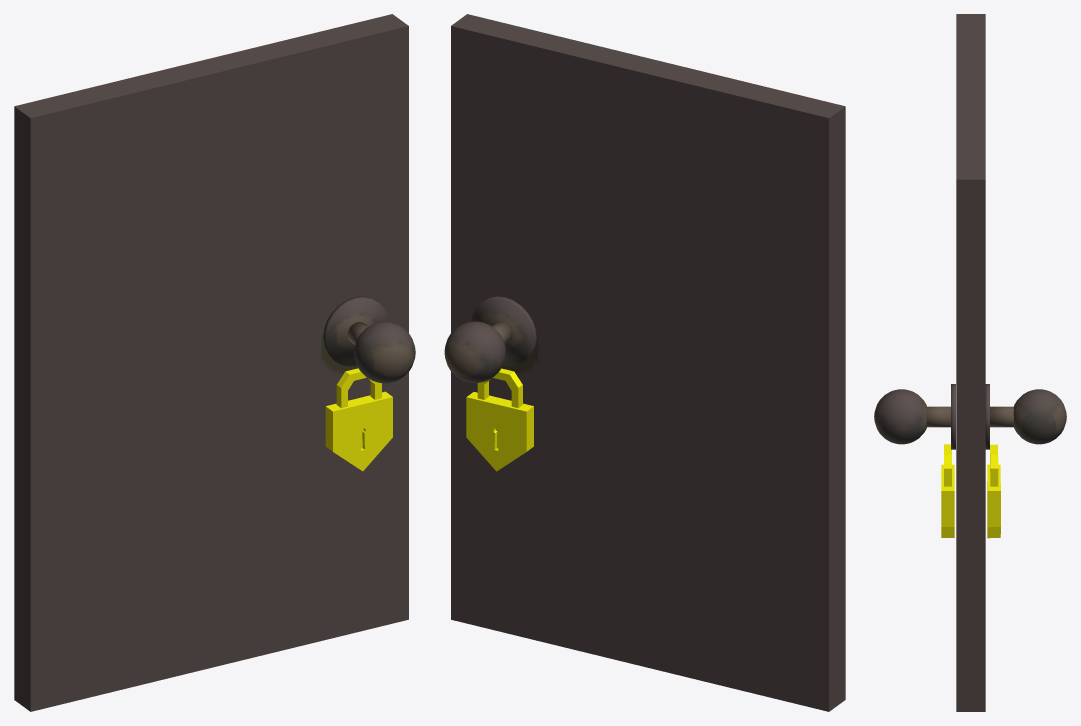
The model's file is Single_Door_With_Lock.fbx.
3 renders of one model, left to right at view 1: azimuth 30°, elevation 25°; view 2: azimuth 150°, elevation 25°; view 3: azimuth 270°, elevation 25°, orthographic. The views are drawn at different scales.
Visible parts, largest first — view 1: Door; view 2: Door; view 3: Door.
Part boxes in pixels (x1,y1,x2,y2): Door: (14,14,415,711); Door: (444,14,845,711); Door: (874,14,1066,711).
Bounding box in the file's own units: 4 × 6 × 1.97.
Materials: 1 (1 with a texture image).
